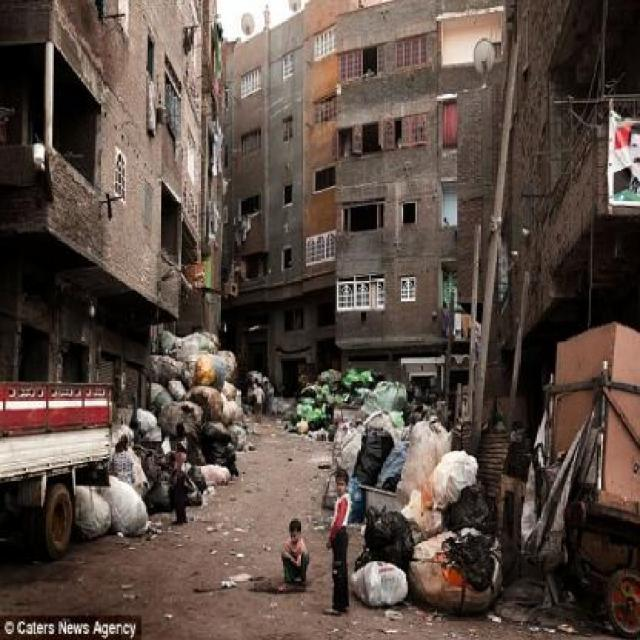garbage: (353, 429, 492, 604), (163, 326, 224, 426)
